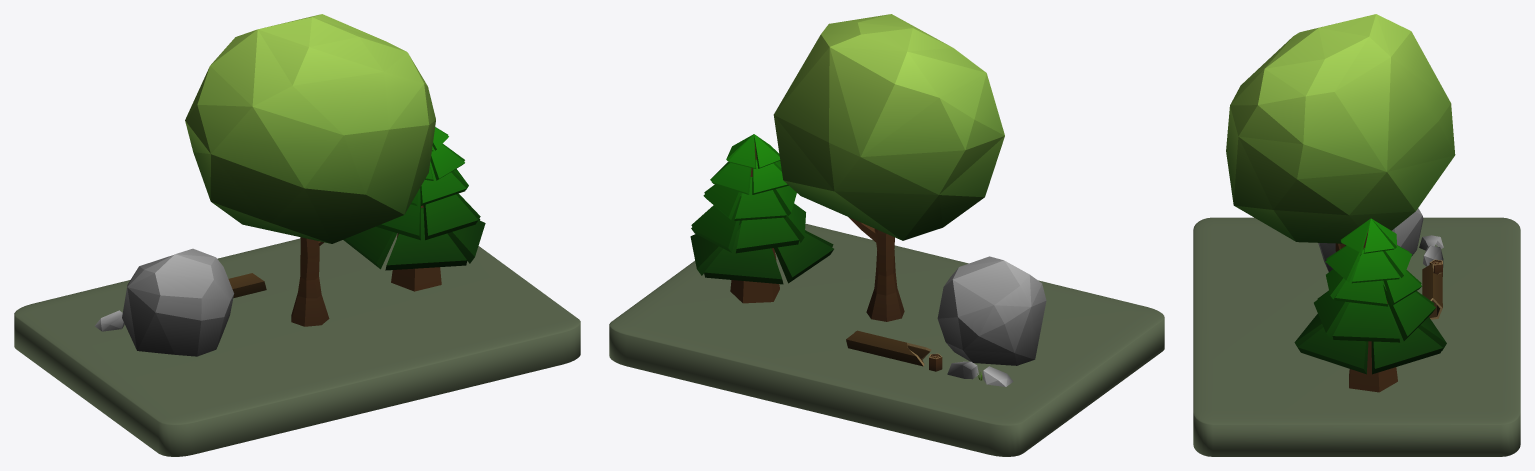
Rendered from forestpack.glb.
3 renders of one model, left to right at view 1: azimuth 30°, elevation 25°; view 2: azimuth 150°, elevation 25°; view 3: azimuth 270°, elevation 25°, orthographic. The views are drawn at different scales.
Visible parts, largest first — view 1: STAND, TREE, PINE TREE, ROCK 1, LOG 1; view 2: STAND, TREE, PINE TREE, ROCK 1, LOG 1; view 3: STAND, TREE, PINE TREE, ROCK 1, LOG 1.
Boxes of the visible parts, bbox=[...] form: STAND: bbox=[14, 233, 580, 456]; TREE: bbox=[185, 14, 435, 326]; PINE TREE: bbox=[343, 127, 485, 291]; ROCK 1: bbox=[122, 248, 234, 356]; LOG 1: bbox=[228, 273, 266, 297]; STAND: bbox=[609, 223, 1164, 456]; TREE: bbox=[773, 14, 1004, 321]; PINE TREE: bbox=[690, 134, 833, 303]; ROCK 1: bbox=[937, 256, 1046, 365]; LOG 1: bbox=[846, 330, 931, 366]; STAND: bbox=[1193, 217, 1520, 456]; TREE: bbox=[1226, 14, 1455, 251]; PINE TREE: bbox=[1294, 218, 1446, 392]; ROCK 1: bbox=[1318, 208, 1423, 271]; LOG 1: bbox=[1422, 263, 1442, 319].
Bounding box in the file's own units: 41.16 × 30.44 × 27.47.
Materials: 2 (1 with a texture image).
